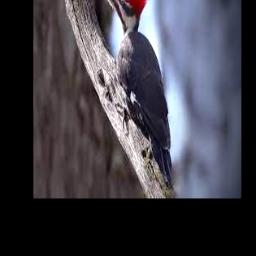Woodpecker: (98, 0, 173, 187)
